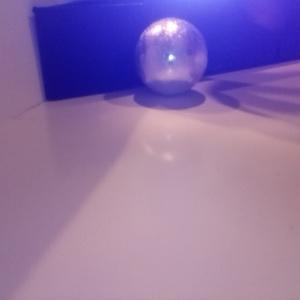alive_ball: (134, 16, 208, 94)
